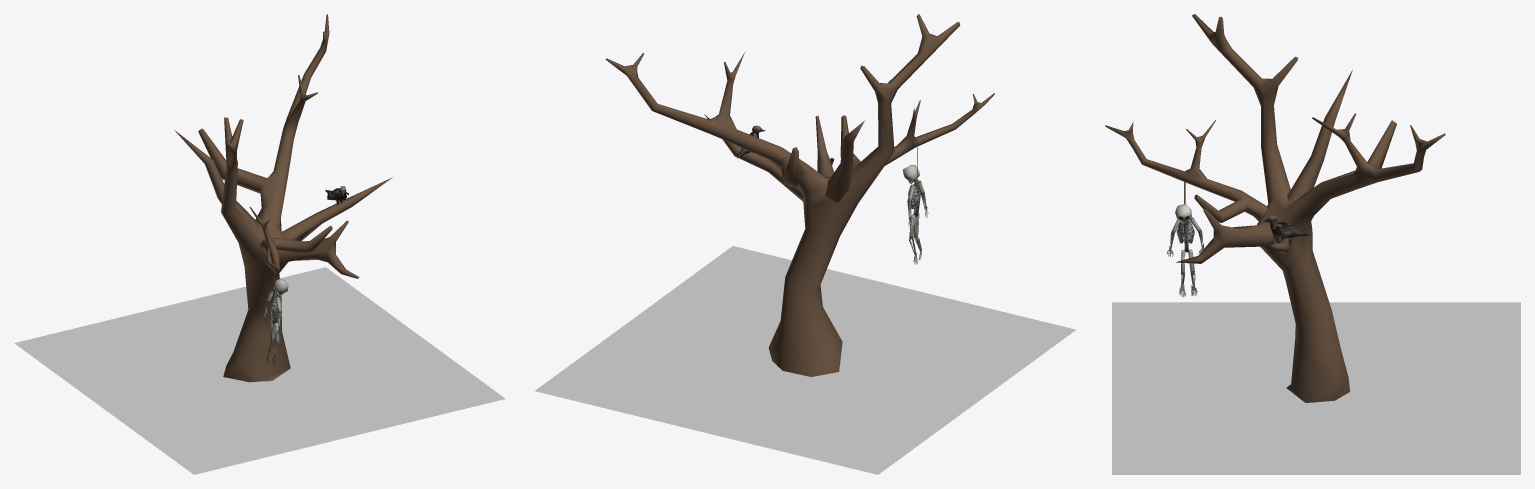
The model's file is PSX style tree.fbx.
3 renders of one model, left to right at view 1: azimuth 30°, elevation 25°; view 2: azimuth 150°, elevation 25°; view 3: azimuth 270°, elevation 25°, orthographic. The views are drawn at different scales.
Parts seen in each view (by area): view 1: ground, tree, Skeleton; view 2: ground, tree, Skeleton; view 3: ground, tree, Skeleton.
Part boxes in pixels (left/top/right/bottom): ground: left=14, top=267, right=505, bottom=474; tree: left=174, top=14, right=392, bottom=382; Skeleton: left=264, top=272, right=288, bottom=366; ground: left=535, top=246, right=1075, bottom=474; tree: left=605, top=14, right=994, bottom=376; Skeleton: left=902, top=147, right=928, bottom=264; ground: left=1112, top=302, right=1520, bottom=474; tree: left=1105, top=14, right=1445, bottom=402; Skeleton: left=1166, top=182, right=1204, bottom=297.
Size of the model in its own units: 906 by 828 by 921.
